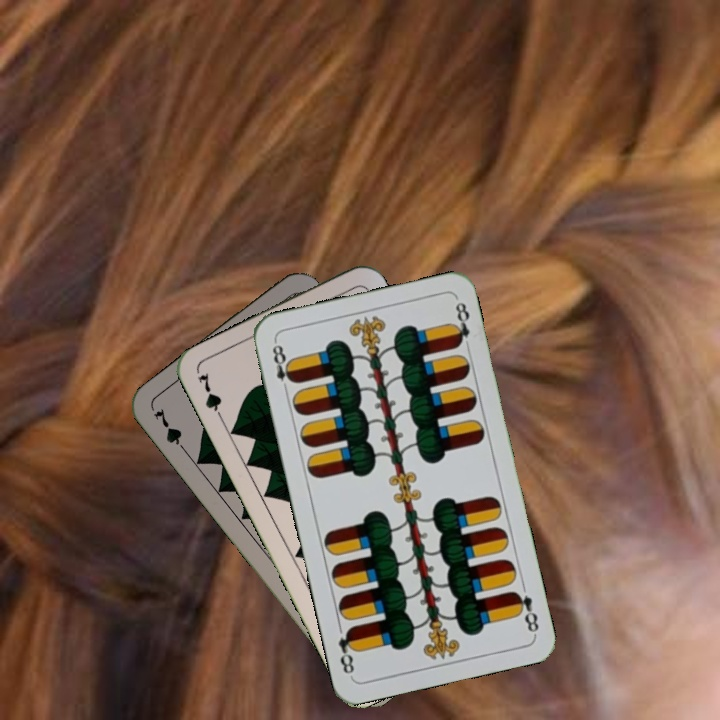E8: (268, 337, 298, 396), (509, 587, 542, 637)
G7: (149, 403, 191, 457), (194, 368, 228, 426)
